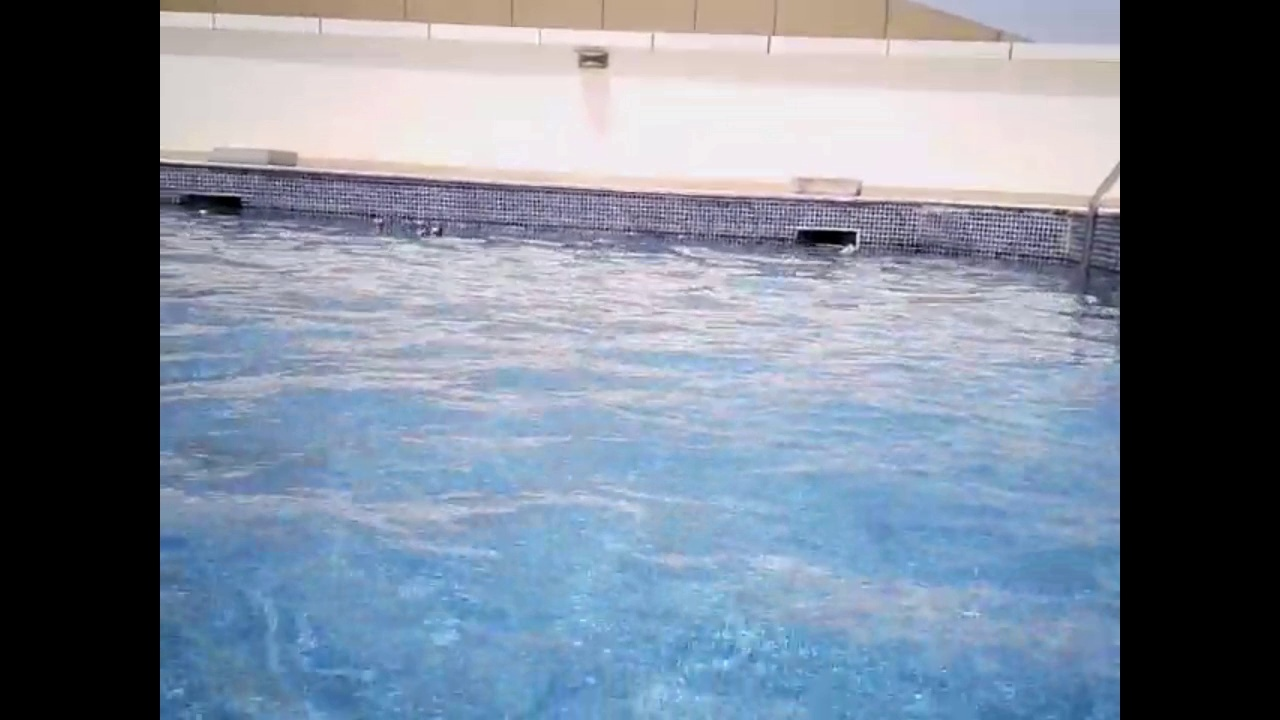debris: (833, 243, 860, 260), (405, 218, 426, 236), (428, 220, 445, 241), (373, 214, 389, 235), (194, 201, 208, 219)
